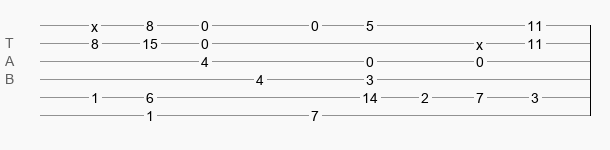0: (201, 18, 209, 28), (201, 36, 209, 46), (311, 18, 319, 28), (366, 54, 374, 64), (476, 54, 484, 64)
1: (91, 90, 99, 100), (146, 108, 154, 118)
11: (527, 18, 543, 28), (527, 36, 543, 46)
14: (362, 90, 378, 100)
15: (142, 36, 158, 46)
2: (421, 90, 429, 100)
3: (366, 72, 374, 82), (531, 90, 539, 100)
4: (201, 54, 209, 64), (256, 72, 264, 82)
5: (366, 18, 374, 28)
6: (146, 90, 154, 100)
7: (311, 108, 319, 118), (476, 90, 484, 100)
8: (91, 36, 99, 46), (146, 18, 154, 28)
x: (91, 19, 98, 27), (476, 37, 483, 45)
